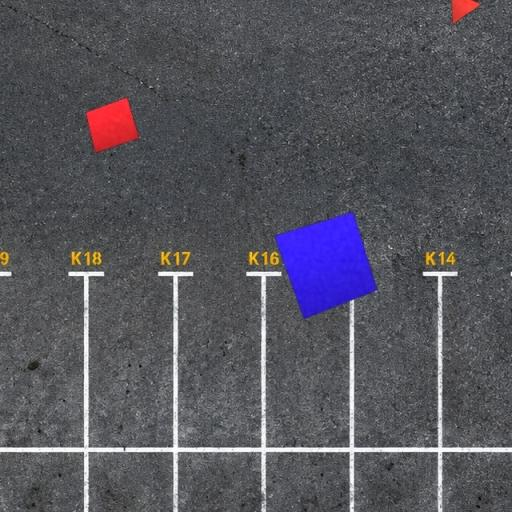BLUE_SQUARE: (274, 211, 378, 320)
RED_SQUARE: (85, 96, 140, 154)
